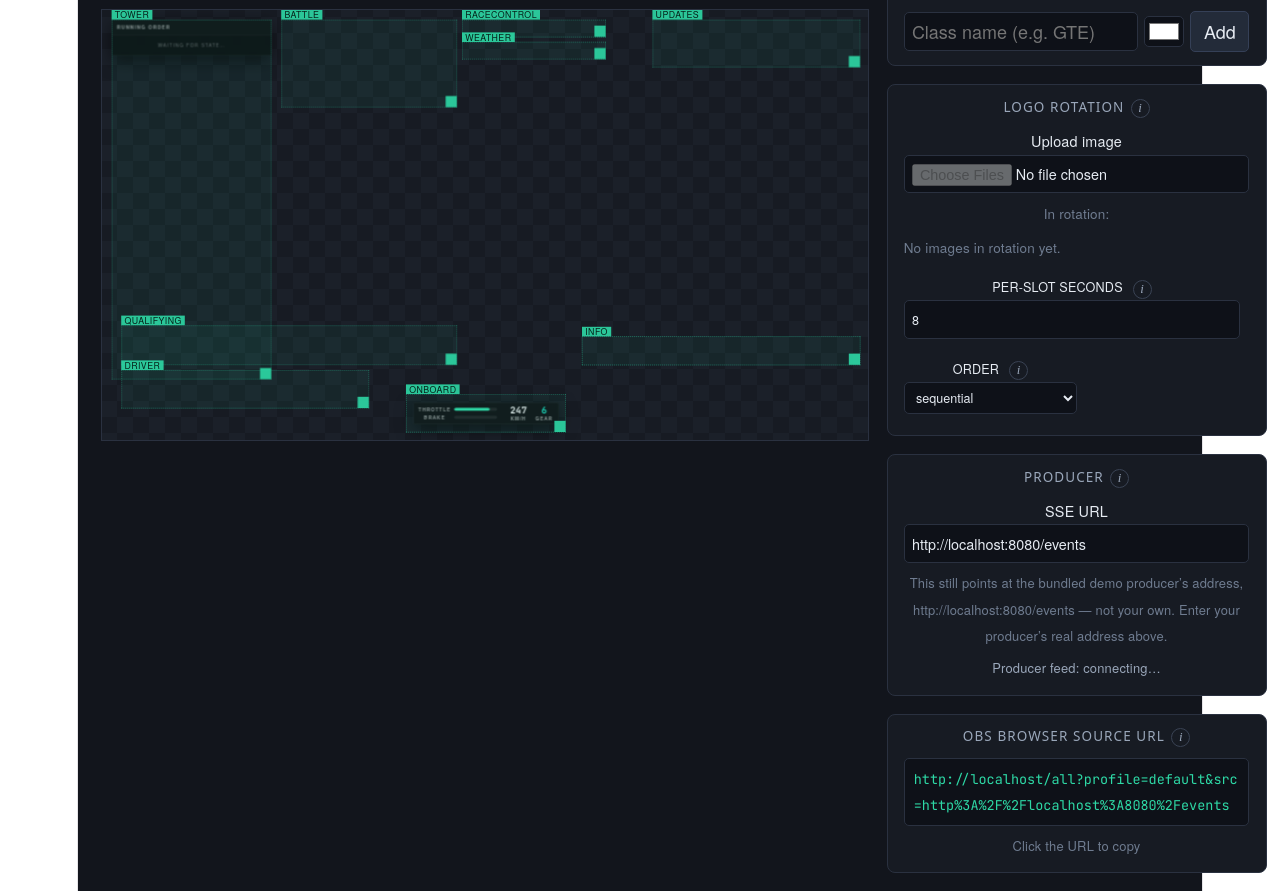
it: rule 31 — the Producer section names the bundled demo address › disappears once the field holds a real, distinct producer address
(page scrolled)
In the field with test id "producer-src": coordinates (1076, 544) [904,524,1249,563], type "http://race-pc.lan:9100/events"
Wait 500 ms
(page scrolled)
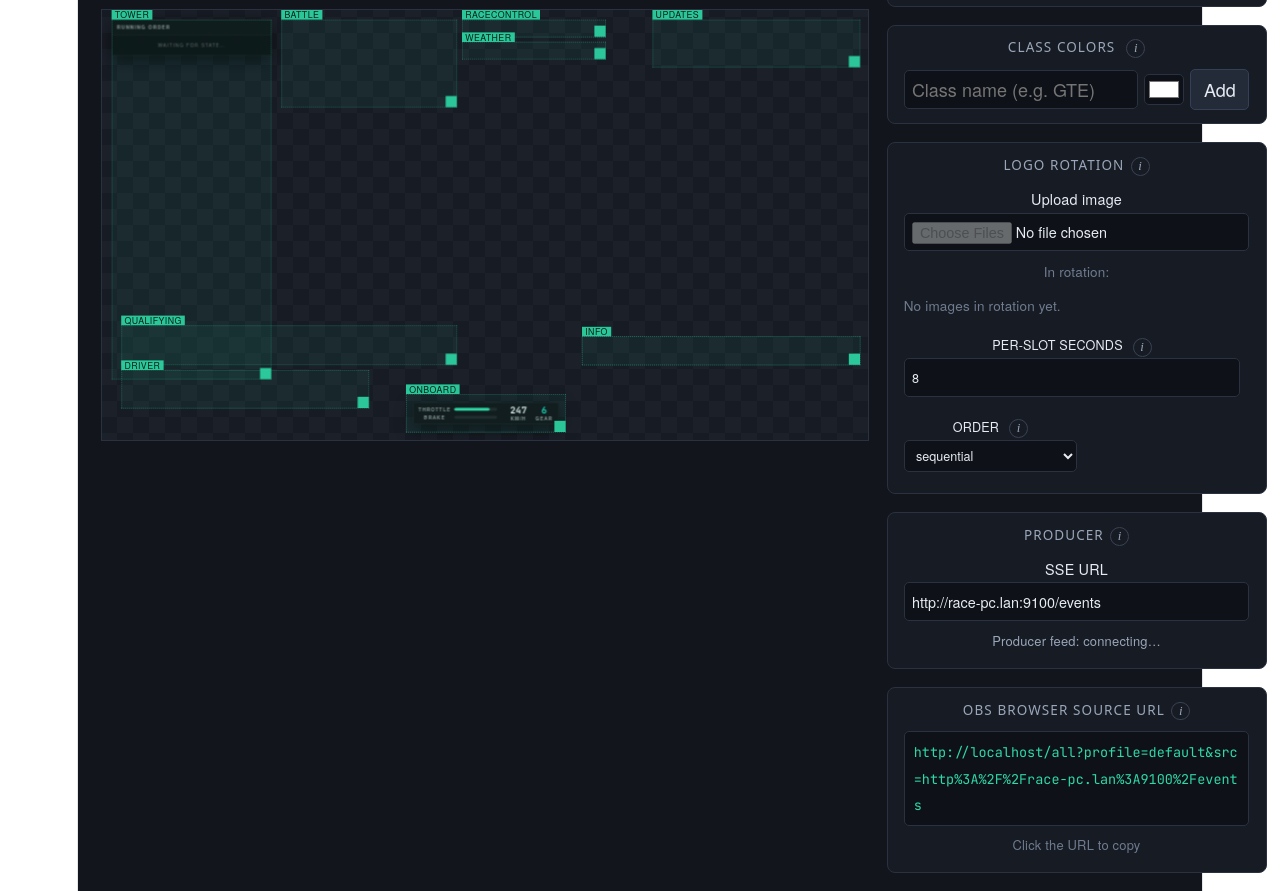
Expected: the text with test id "producer-default-notice" is gone
